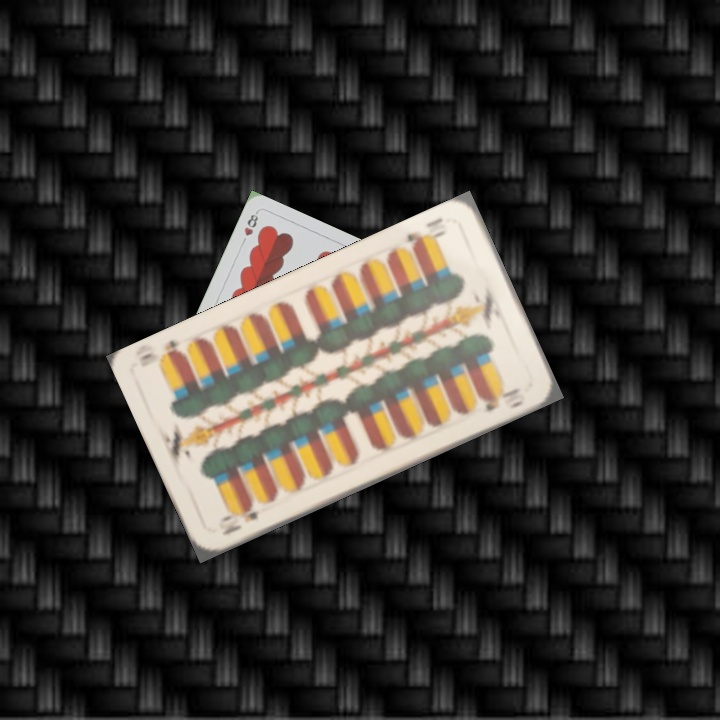E10: (214, 501, 263, 538), (402, 226, 449, 253)
H8: (240, 208, 261, 238)
